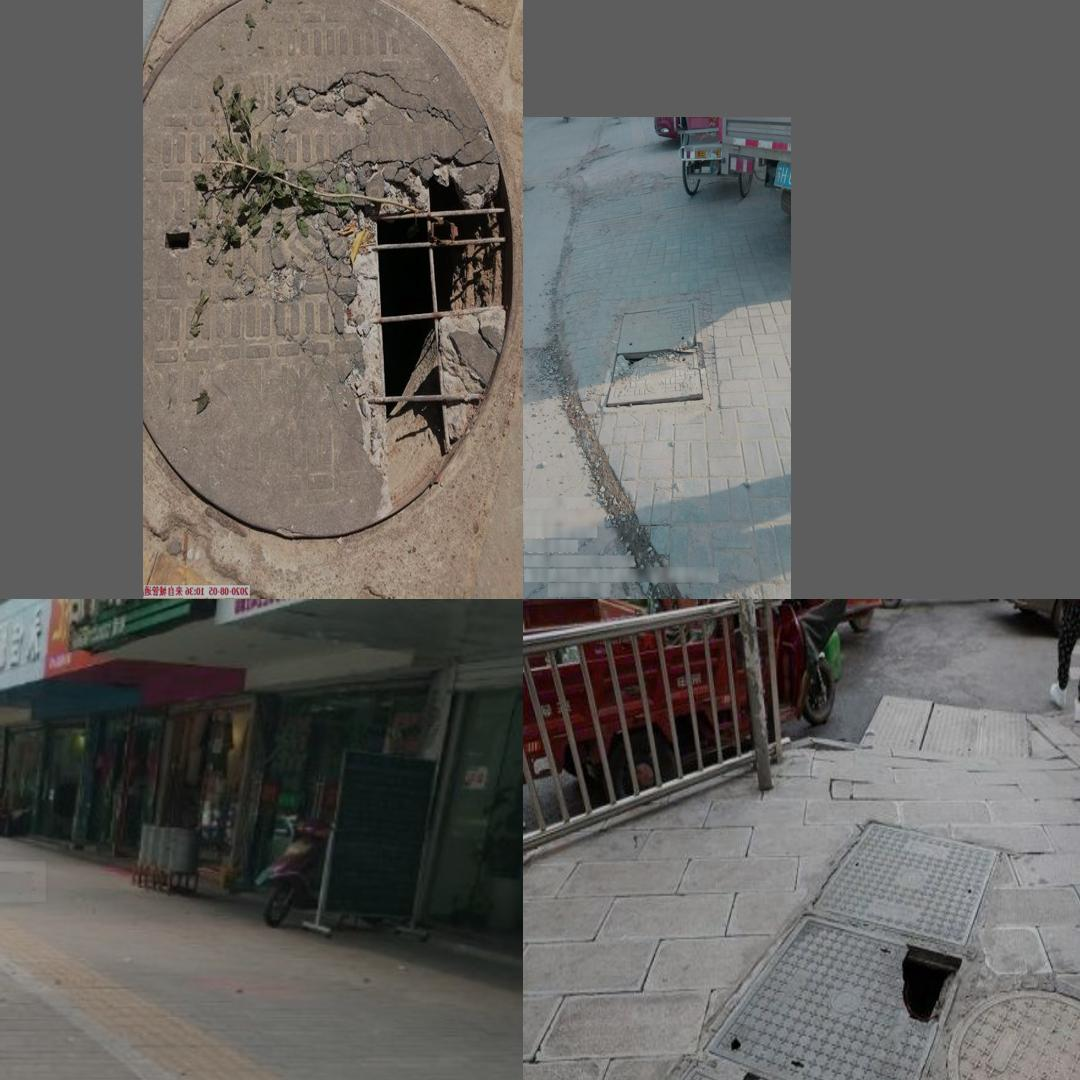broke: (151, 0, 513, 534), (694, 927, 968, 1080), (616, 309, 703, 399)
